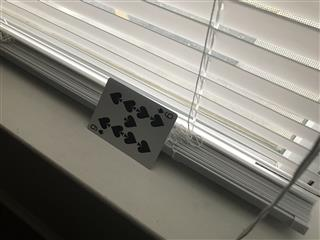NineOfSpades: (87, 77, 178, 169)
